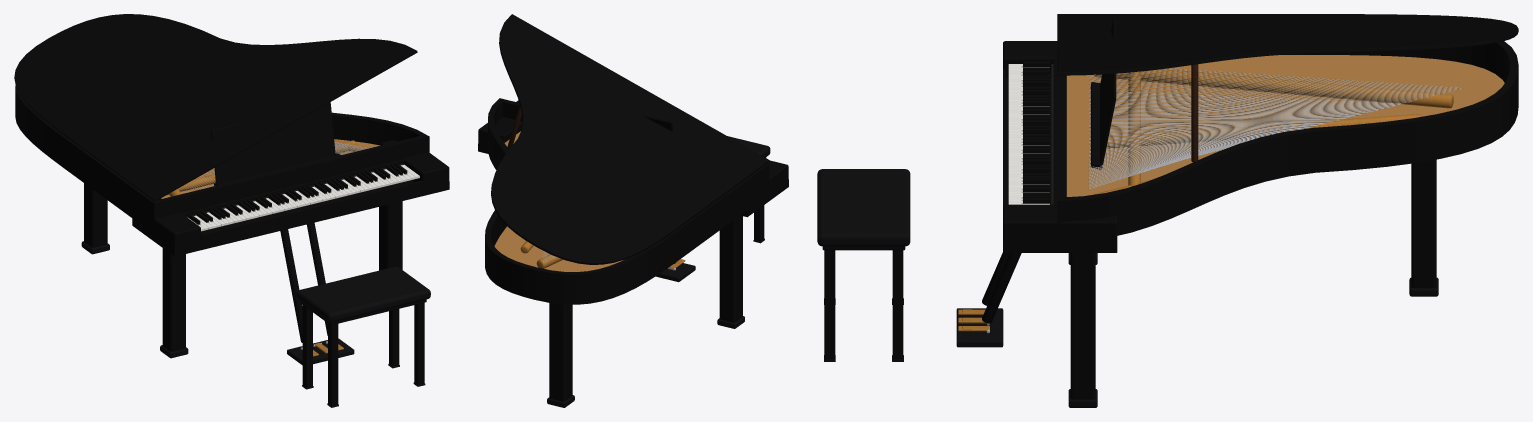
File: GrandPiano88.glb
3 views of the same model, side by side, from view 1: azimuth 30°, elevation 25°; view 2: azimuth 150°, elevation 25°; view 3: azimuth 270°, elevation 25° (orthographic). The views are drawn at different scales.
Visible parts, largest first — view 1: Grand_Lid, Grand_CurvedRim, MusicRest_Board, Bench_Cushion, Case_Base, Stand_GrandLeg_FrontLeft, Case_FrontRail, Case_Cheek_Left, Stand_GrandLeg_FrontRight, Pedals_Lyre, Stand_GrandLeg_Rear, Case_Cheek_Right (+10 smaller); view 2: Grand_Lid, Grand_CurvedRim, Stand_GrandLeg_FrontLeft, Stand_GrandLeg_Rear, Grand_Soundboard, Case_Cheek_Left, Case_Cheek_Right, Pedals_Base, Bench_Leg_Left_Front, Grand_CastFrame, Bench_Cushion; view 3: Grand_CurvedRim, Grand_Soundboard, Grand_Lid, Grand_Strings, Grand_CastFrame, Bench_Cushion, Case_Cheek_Right, Stand_GrandLeg_FrontRight, Stand_GrandLeg_Rear, Case_Base, Pedals_Base, Bench_Leg_Right_Rear (+6 smaller).
Boxes of the visible parts, bbox=[...] form: Grand_Lid: bbox=[14, 14, 417, 201]; Grand_CurvedRim: bbox=[15, 86, 429, 233]; MusicRest_Board: bbox=[211, 102, 335, 182]; Bench_Cushion: bbox=[296, 266, 430, 322]; Case_Base: bbox=[132, 174, 449, 256]; Stand_GrandLeg_FrontLeft: bbox=[162, 248, 185, 351]; Case_FrontRail: bbox=[201, 180, 422, 242]; Case_Cheek_Left: bbox=[133, 198, 200, 254]; Stand_GrandLeg_FrontRight: bbox=[379, 201, 402, 270]; Pedals_Lyre: bbox=[280, 222, 327, 342]; Stand_GrandLeg_Rear: bbox=[84, 183, 107, 247]; Case_Cheek_Right: bbox=[381, 140, 449, 190]; Grand_Lid: bbox=[491, 14, 769, 264]; Grand_CurvedRim: bbox=[485, 98, 769, 304]; Stand_GrandLeg_FrontLeft: bbox=[719, 215, 742, 322]; Stand_GrandLeg_Rear: bbox=[549, 303, 572, 401]; Grand_Soundboard: bbox=[494, 131, 623, 271]; Case_Cheek_Left: bbox=[741, 160, 788, 215]; Case_Cheek_Right: bbox=[478, 100, 522, 151]; Pedals_Base: bbox=[655, 263, 695, 282]; Bench_Leg_Left_Front: bbox=[754, 205, 764, 241]; Grand_CastFrame: bbox=[520, 241, 562, 268]; Bench_Cushion: bbox=[727, 136, 770, 157]; Grand_CurvedRim: bbox=[1057, 41, 1518, 235]; Grand_Soundboard: bbox=[1066, 55, 1504, 196]; Grand_Lid: bbox=[1057, 14, 1518, 75]; Grand_Strings: bbox=[1088, 68, 1463, 189]; Grand_CastFrame: bbox=[1094, 69, 1453, 194]; Bench_Cushion: bbox=[817, 169, 910, 246]; Case_Cheek_Right: bbox=[1003, 204, 1117, 250]; Stand_GrandLeg_FrontRight: bbox=[1070, 253, 1095, 399]; Stand_GrandLeg_Rear: bbox=[1411, 159, 1436, 288]; Case_Base: bbox=[1003, 78, 1117, 252]; Pedals_Base: bbox=[956, 308, 1003, 347]; Bench_Leg_Right_Rear: bbox=[892, 250, 903, 359].
Size of the model in its own units: 1.5 by 1.31 by 2.45.
97 materials, 97 textured.
